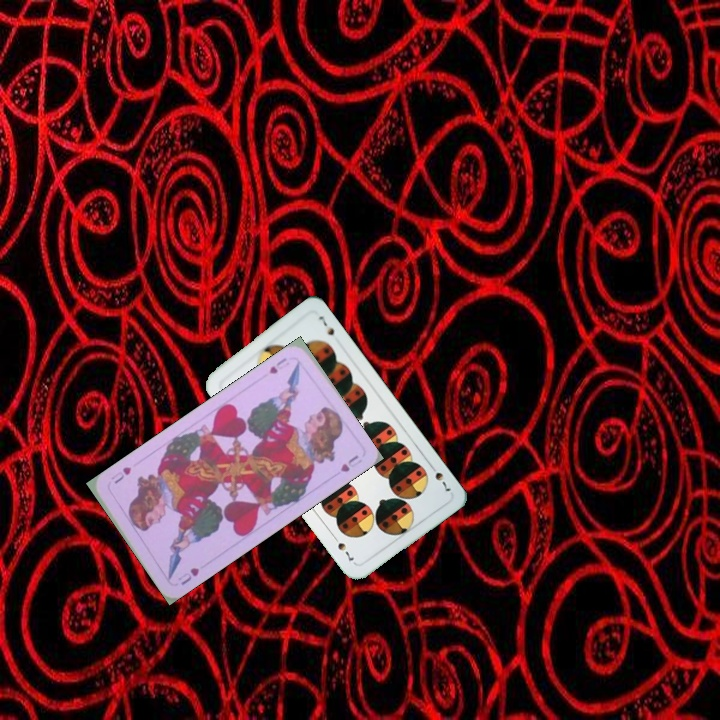HU: (174, 563, 202, 588), (265, 353, 289, 377)
S7: (425, 460, 454, 494)
